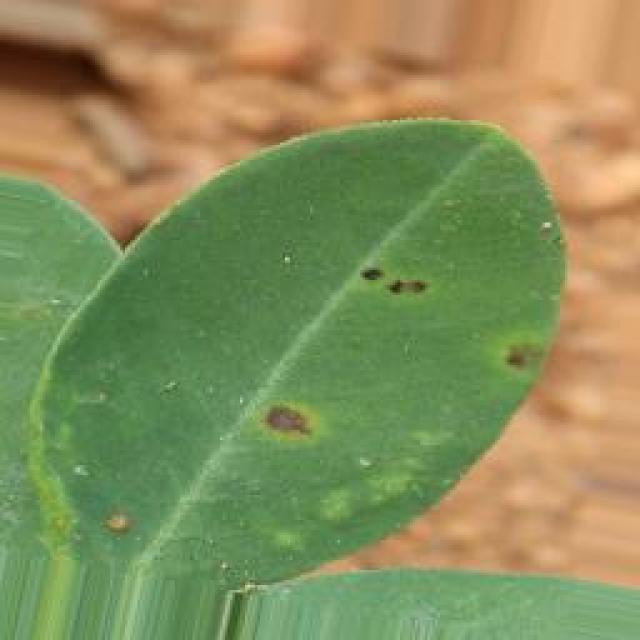Sigatoka: (343, 240, 451, 336), (240, 381, 336, 478), (489, 316, 563, 401), (90, 481, 160, 566)
